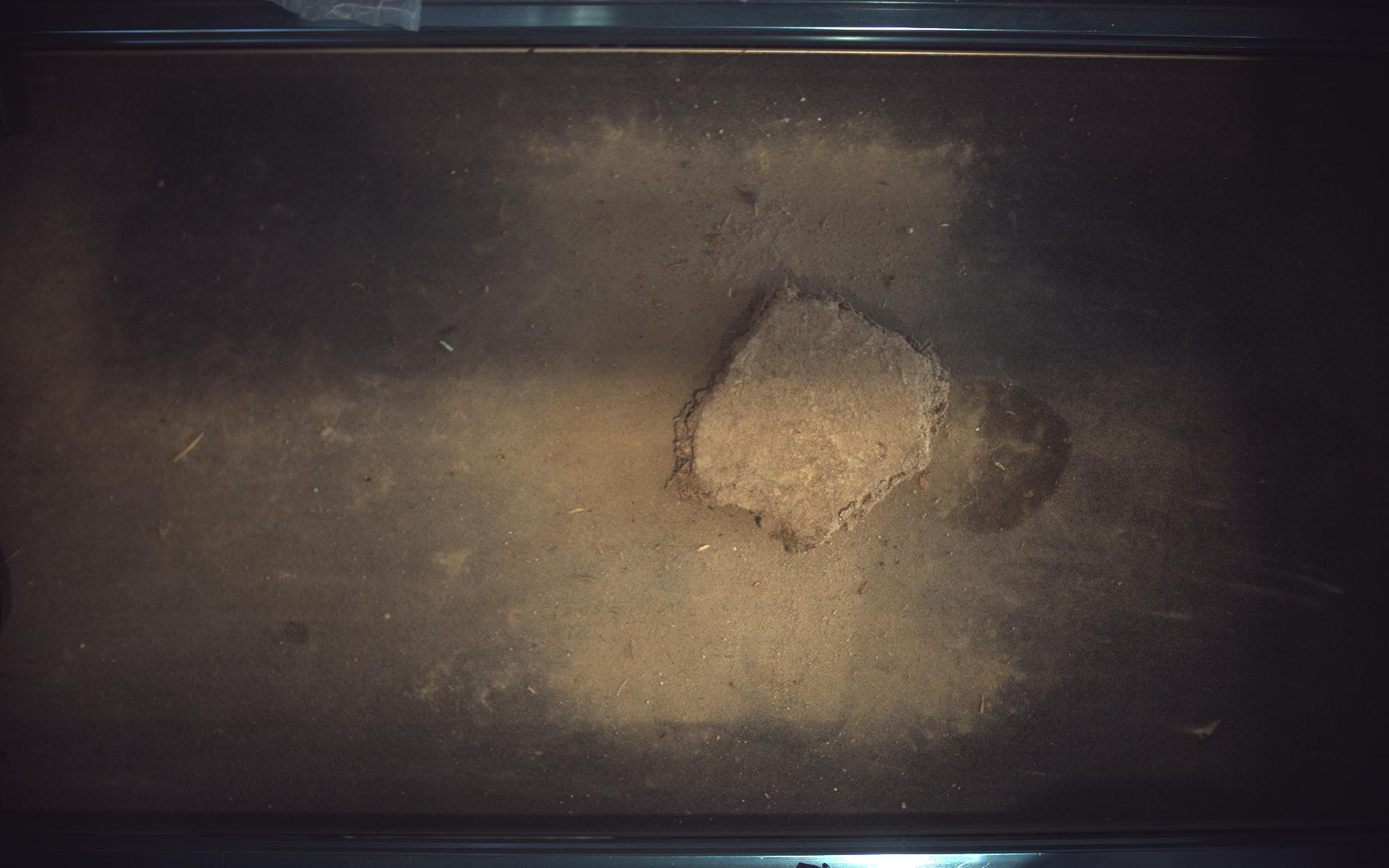wood: (669, 284, 951, 551)
